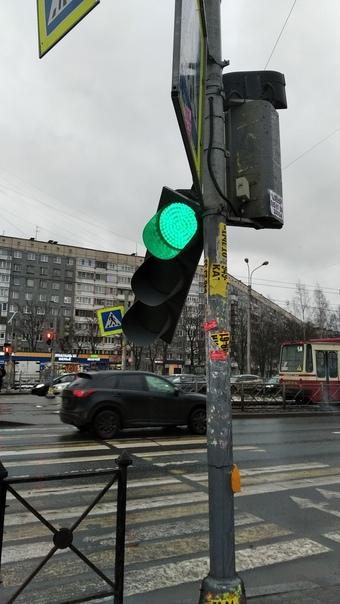off traffic light: (123, 190, 202, 343)
